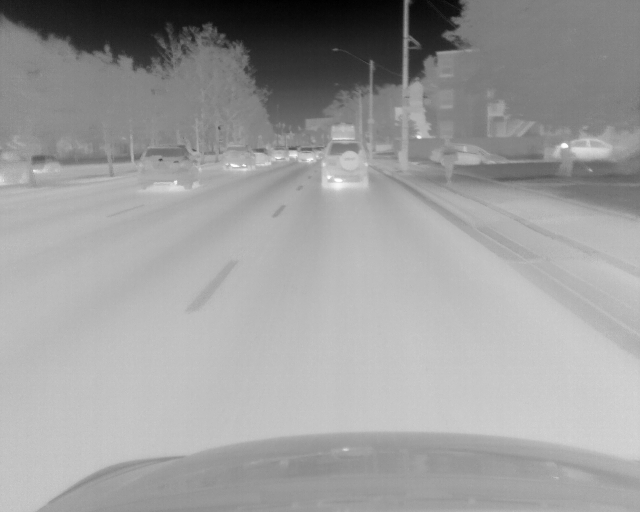car: (138, 144, 202, 193), (319, 140, 370, 192), (428, 142, 506, 167), (552, 136, 618, 165), (221, 145, 253, 171), (28, 155, 64, 176), (254, 147, 271, 167), (299, 148, 316, 165), (272, 145, 287, 162), (286, 147, 297, 161)
people: (439, 137, 458, 189), (554, 140, 579, 177)
